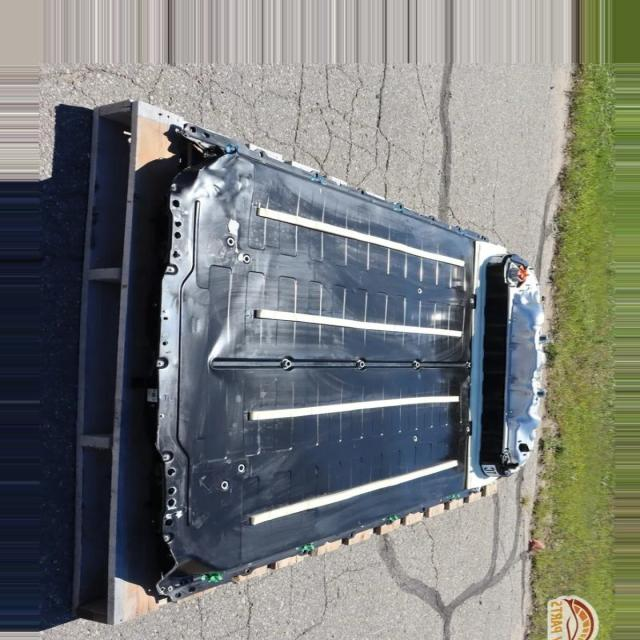Nut: (276, 358, 310, 374), (404, 358, 429, 372), (349, 359, 372, 372), (462, 360, 482, 371)
Screw: (223, 234, 263, 270), (230, 462, 256, 474), (470, 294, 485, 311), (416, 284, 431, 300), (217, 480, 234, 493), (410, 433, 427, 446)
